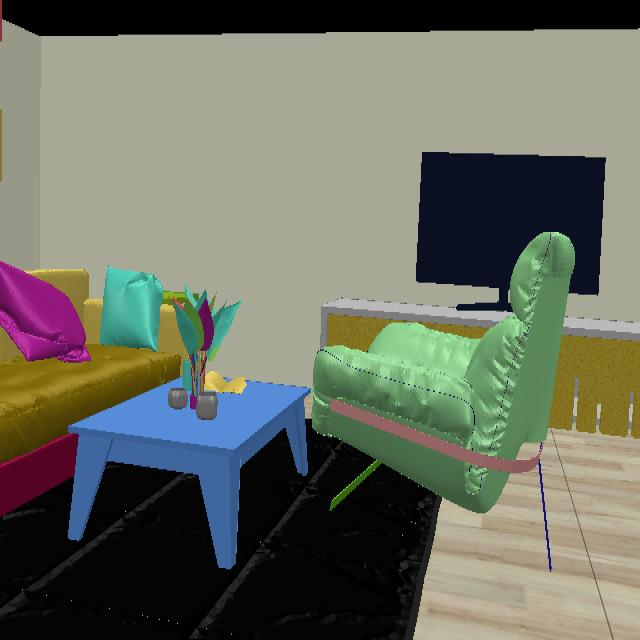monitor: (416, 151, 606, 297)
pillow: (0, 261, 91, 365), (99, 265, 163, 352)
sofa: (308, 235, 572, 513), (0, 269, 190, 464)
table: (67, 380, 310, 572)
